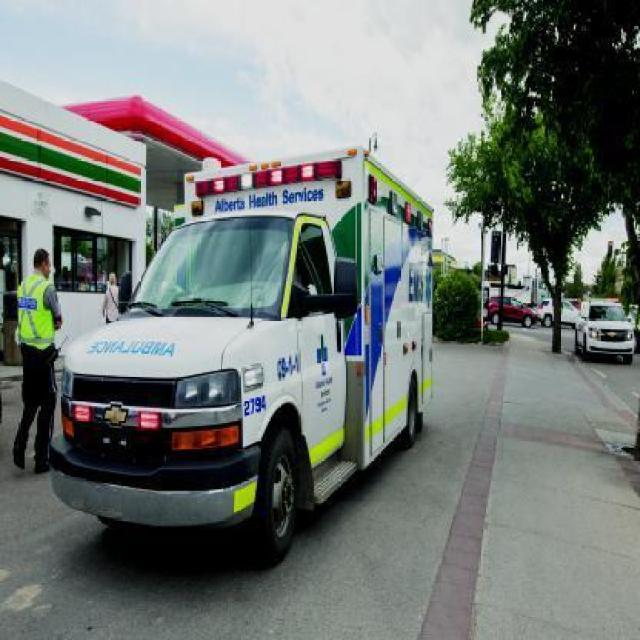emergency: (48, 132, 436, 564)
